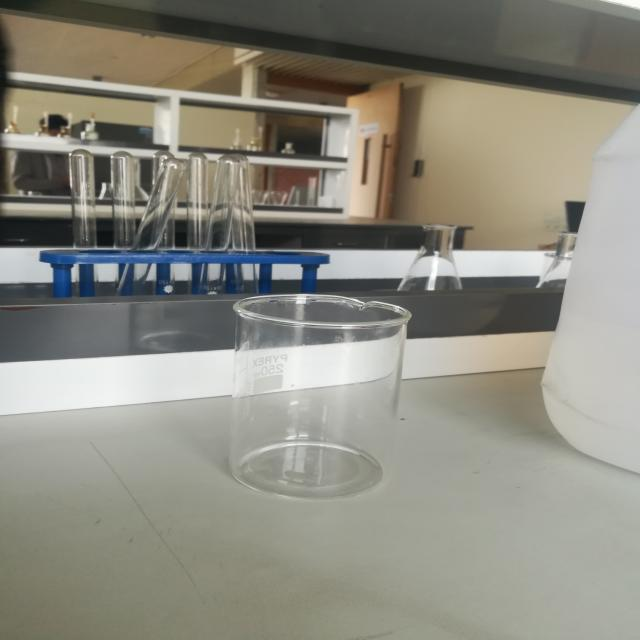Beaker: (222, 267, 418, 524)
Test_Tube: (39, 116, 215, 304)
